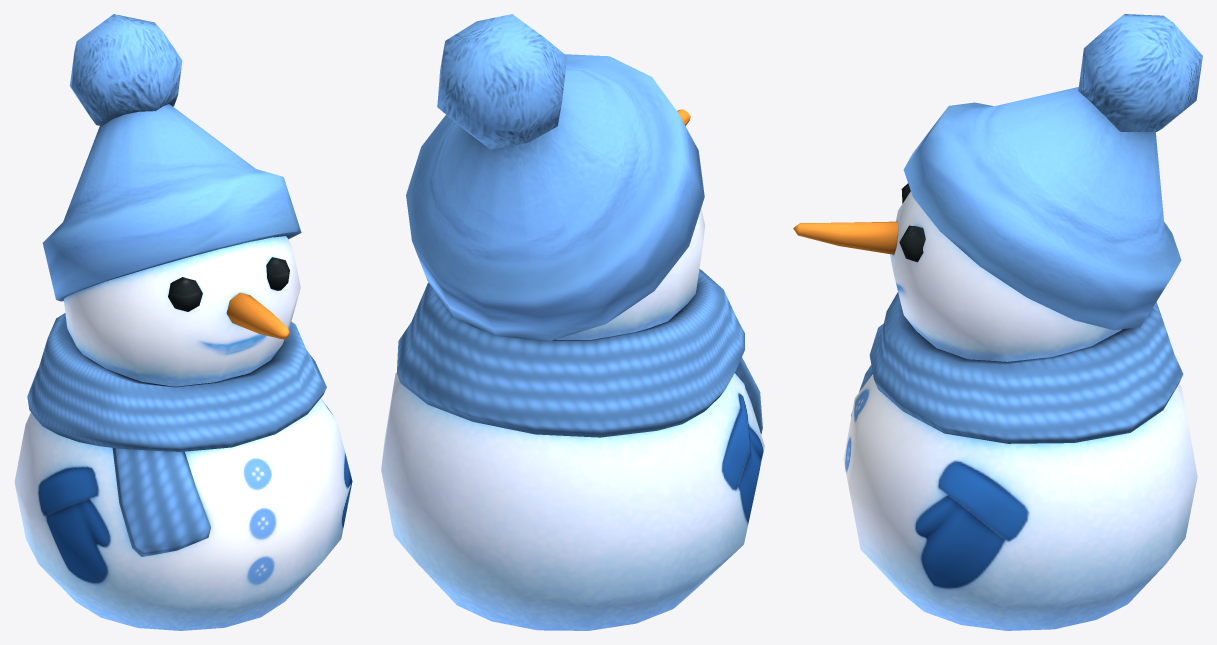
The model's file is obj_snake01.gltf.
The picture shows the model from 3 angles, left to right: view 1: azimuth 30°, elevation 25°; view 2: azimuth 150°, elevation 25°; view 3: azimuth 270°, elevation 25°; orthographic projection. The views are drawn at different scales.
Visible parts, largest first — view 1: obj_snake01; view 2: obj_snake01; view 3: obj_snake01.
Boxes of the visible parts, <box> form: obj_snake01: <box>14,14,352,630</box>; obj_snake01: <box>381,14,764,630</box>; obj_snake01: <box>793,14,1202,630</box>.
Size of what is drawn, in the model's own units: 0.7321 by 1.3 by 0.8309.
1 material, 1 textured.
